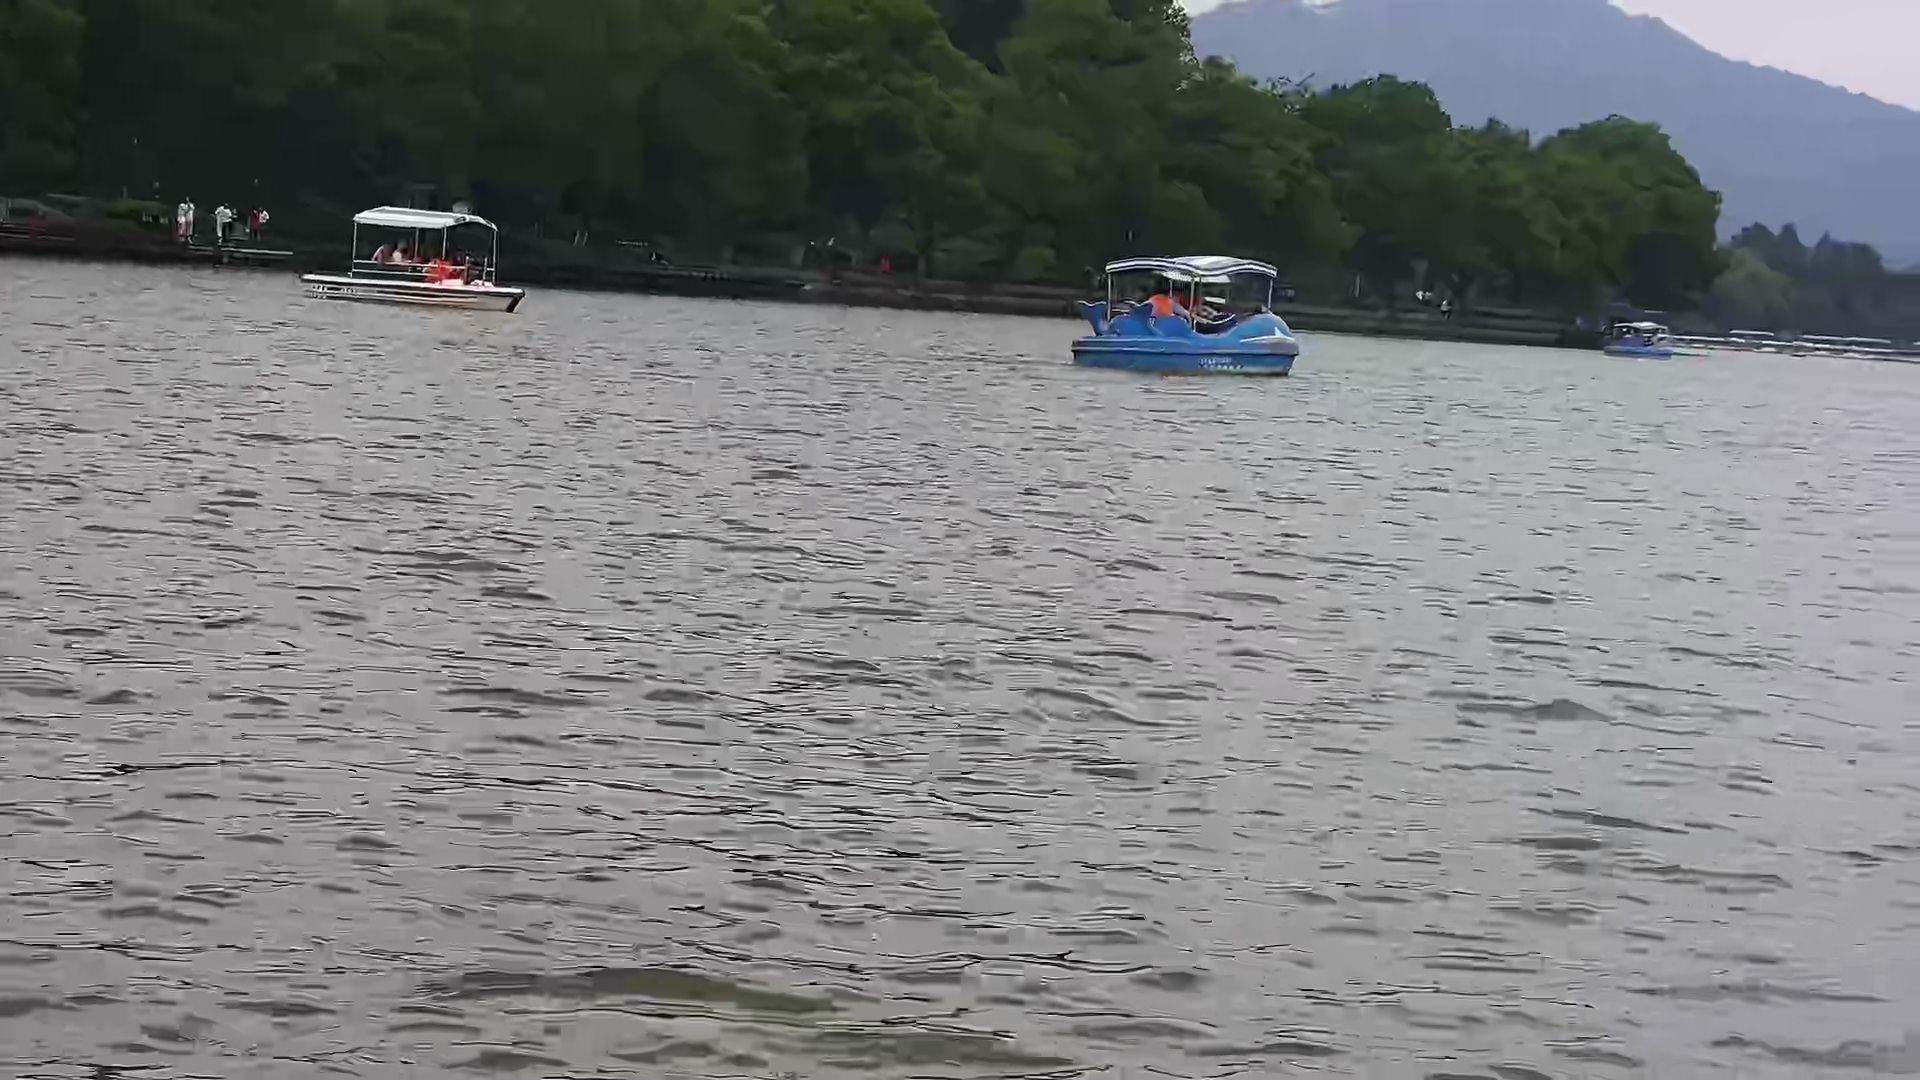boat: (1062, 244, 1303, 378), (293, 203, 527, 316), (1600, 316, 1679, 360)
